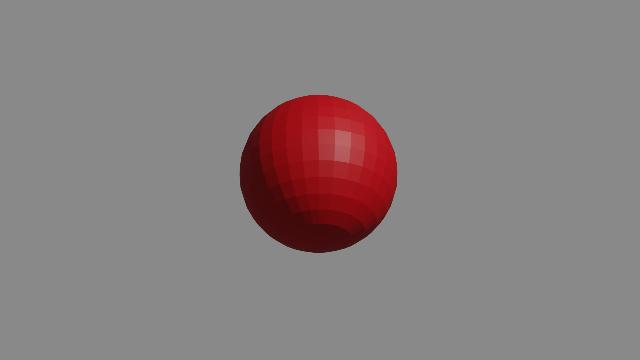Sphere: (236, 90, 404, 262)
